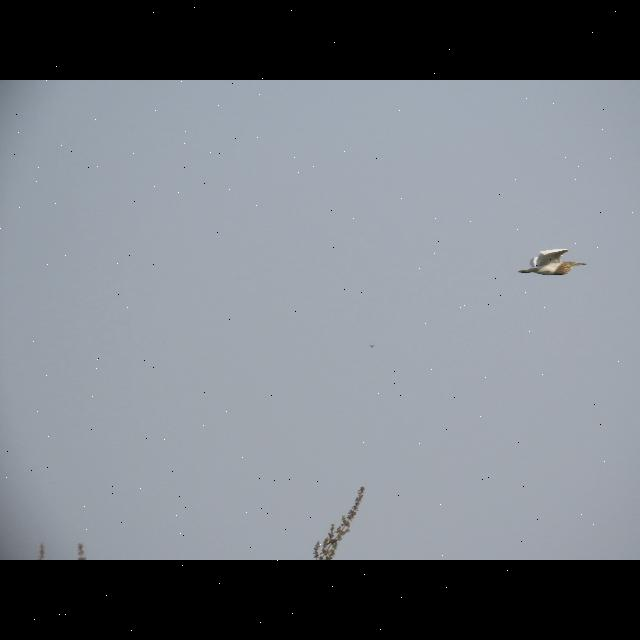heron: (522, 241, 594, 285)
